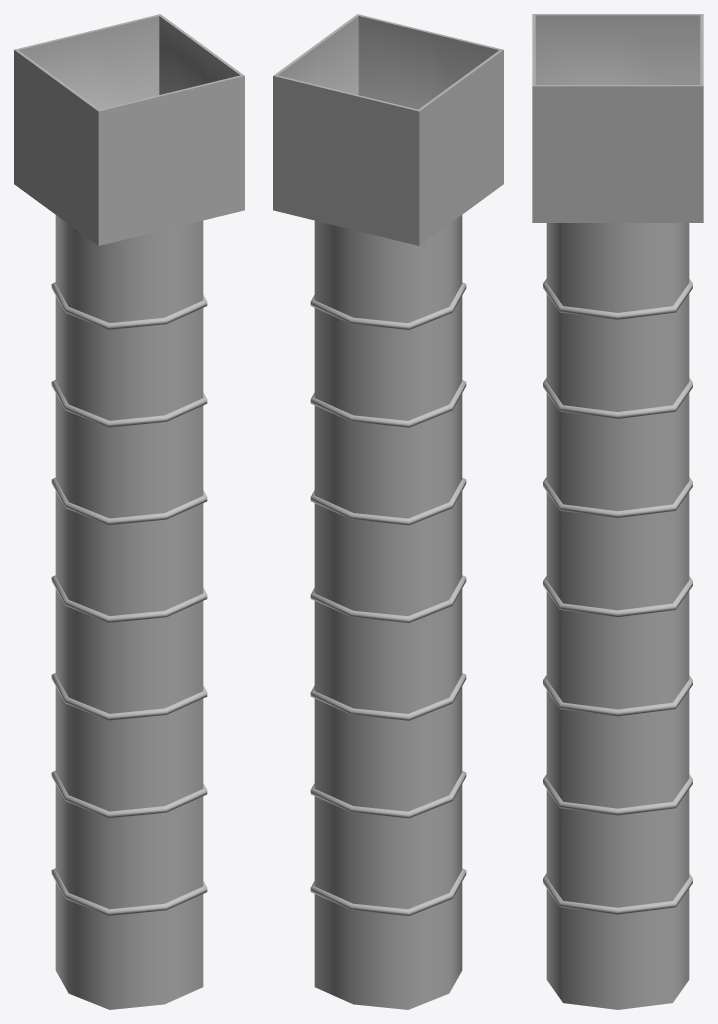
Rendered from Pipe.FBX.
The picture shows the model from 3 angles, left to right: view 1: azimuth 30°, elevation 25°; view 2: azimuth 150°, elevation 25°; view 3: azimuth 270°, elevation 25°; orthographic projection.
Parts seen in each view (by area): view 1: Pipe; view 2: Pipe; view 3: Pipe.
Part boxes in pixels (x1=…): Pipe: x1=14, y1=14, x2=244, y2=1009; Pipe: x1=273, y1=14, x2=503, y2=1009; Pipe: x1=532, y1=14, x2=703, y2=1009.
Size of the model in its own units: 94.57 by 566 by 94.57.
1 material, 1 textured.
